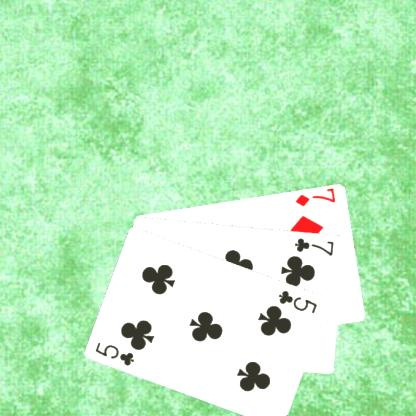5C: (276, 287, 319, 315), (93, 339, 136, 367)
7C: (292, 235, 336, 257)
7D: (292, 186, 338, 208)
